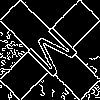M: (25, 25, 86, 86)
